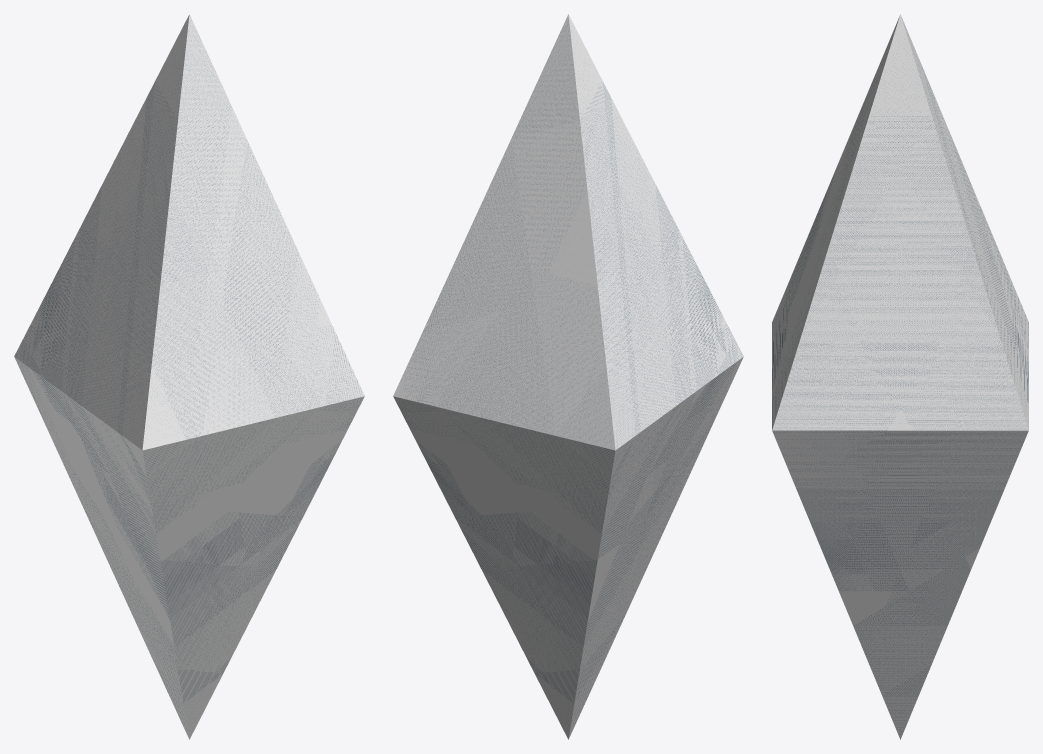
File: senti-mesh-surprised-3.dae
3 views of the same model, side by side, from view 1: azimuth 30°, elevation 25°; view 2: azimuth 150°, elevation 25°; view 3: azimuth 270°, elevation 25° (orthographic).
Visible parts, largest first — view 1: group_0; view 2: group_0; view 3: group_0.
Part boxes in pixels (x1,y1,x2,y2): group_0: [14, 14, 364, 739]; group_0: [393, 14, 743, 739]; group_0: [772, 14, 1028, 739].
Size of the model in its own units: 2.91 by 2.91 by 9.07.
